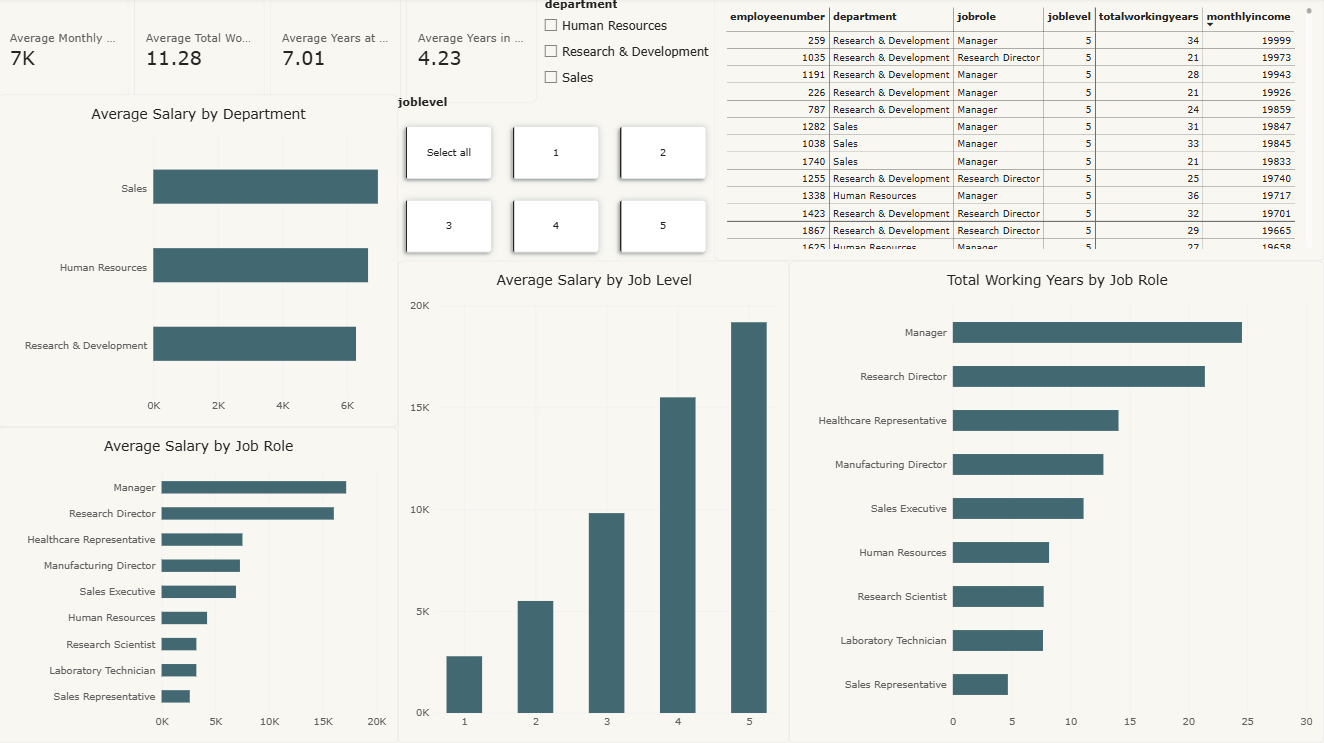

What the dashboard file says about the page in this screenshot:
{"tool":"powerbi","page":{"name":"Compensation & Experience","canvas":[1920,1080],"ordinal":2},"visuals":[{"type":"cardVisual","fields":{"Data":["employees.Average Monthly Income","employees.Average Total Working Years","employees.Average Years at Company","employees.Average Years in Current Role"]},"box":[0,0,783.6,153.8],"z":0},{"type":"clusteredBarChart","title":"Average Salary by Department","fields":{"Y":["employees.Average Monthly Income"],"Category":["employees.department"]},"box":[0,141.2,579.1,481.4],"z":1000},{"type":"clusteredBarChart","title":"Average Salary by Job Role","fields":{"Y":["employees.Average Monthly Income"],"Category":["employees.jobrole"]},"box":[0,622.5,579.1,457.8],"z":2000},{"type":"clusteredColumnChart","title":"Average Salary by Job Level","fields":{"Category":["employees.joblevel"],"Y":["employees.Average Monthly Income"]},"box":[579.1,381.8,566.4,698.5],"z":3000},{"type":"clusteredBarChart","title":"Total Working Years by Job Role","fields":{"Y":["employees.Average Total Working Years"],"Category":["employees.jobrole"]},"box":[1145.5,381.8,774.5,698.5],"z":4000},{"type":"tableEx","fields":{"Values":["employees.employeenumber","employees.department","employees.jobrole","employees.joblevel","employees.totalworkingyears","employees.monthlyincome"]},"box":[1036.9,0,883.1,381.8],"z":5000},{"type":"slicer","fields":{"Values":["employees.department"]},"box":[783.6,0,253.4,141.2],"z":6000},{"type":"advancedSlicerVisual","fields":{"Values":["employees.joblevel"]},"box":[579.1,141.2,457.8,240.7],"z":7000}]}

Visuals, with their boxes in screenshot pixels (x1, y1, x2, y2), scaled from the page's 1920x1080 canvas onto the 1324x743 screenshot:
cardVisual - employees.Average Monthly Income x employees.Average Total Working Years: x1=0 y1=0 x2=540 y2=106
"Average Salary by Department" clusteredBarChart: x1=0 y1=97 x2=399 y2=428
"Average Salary by Job Role" clusteredBarChart: x1=0 y1=428 x2=399 y2=742
"Average Salary by Job Level" clusteredColumnChart: x1=399 y1=263 x2=790 y2=742
"Total Working Years by Job Role" clusteredBarChart: x1=790 y1=263 x2=1323 y2=742
tableEx - employees.employeenumber x employees.department: x1=715 y1=0 x2=1323 y2=263
slicer - employees.department: x1=540 y1=0 x2=715 y2=97
advancedSlicerVisual - employees.joblevel: x1=399 y1=97 x2=715 y2=263
